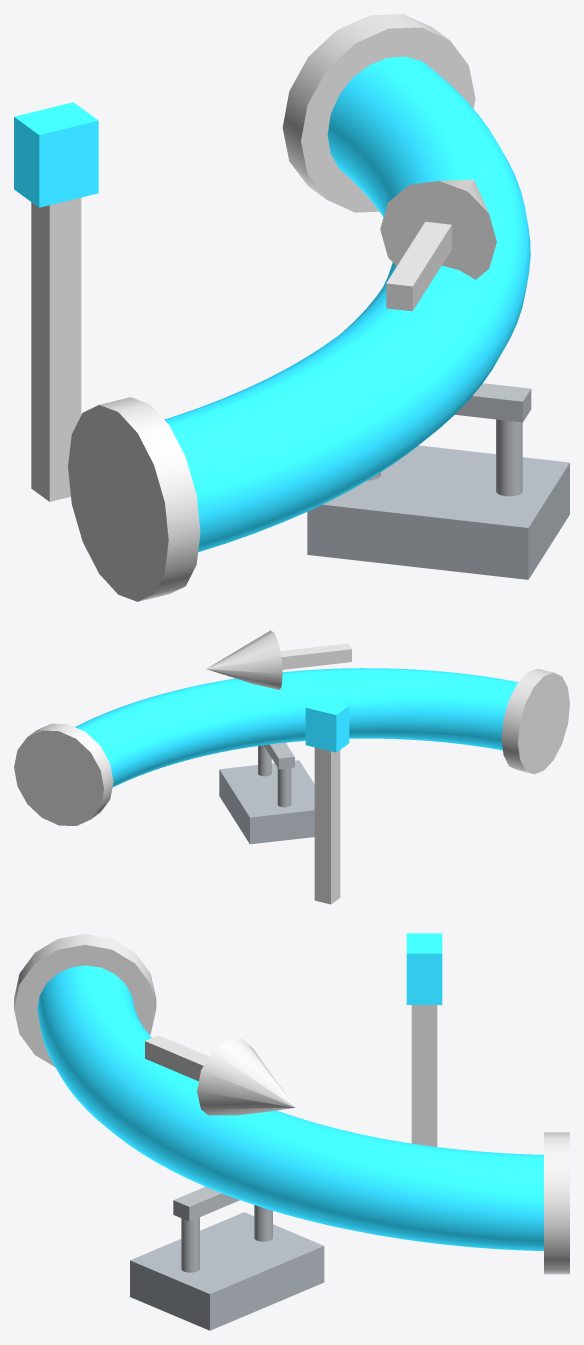
Rendered from Pipeline-turn-left.glb.
The picture shows the model from 3 angles, top to bottom: view 1: azimuth 30°, elevation 25°; view 2: azimuth 150°, elevation 25°; view 3: azimuth 270°, elevation 25°; orthographic projection. The views are drawn at different scales.
Parts seen in each view (by area): view 1: pipe_bend, flange (×2), footing, marker_post, marker_cap, flow_arrow, shaft, crossbar, support_post; view 2: pipe_bend, flange (×2), footing, marker_post, flow_arrow, marker_cap, shaft, support_post (×2), crossbar; view 3: pipe_bend, footing, flange (×2), flow_arrow, marker_post, marker_cap, shaft, support_post (×2), crossbar.
Boxes of the visible parts, box(x1,y1,x2,y2) form: pipe_bend: box(164, 56, 530, 552); flange (×2): box(68, 14, 475, 601); footing: box(307, 445, 569, 579); marker_post: box(31, 197, 81, 501); marker_cap: box(14, 102, 98, 207); flow_arrow: box(380, 179, 496, 279); shaft: box(386, 221, 451, 311); crossbar: box(455, 383, 531, 422); support_post: box(496, 419, 522, 496); pipe_bend: box(75, 668, 518, 787); flange (×2): box(14, 668, 569, 825); footing: box(219, 760, 314, 844); marker_post: box(314, 747, 340, 904); flow_arrow: box(206, 630, 282, 689); marker_cap: box(305, 698, 349, 752); shaft: box(280, 643, 351, 669); support_post (×2): box(258, 745, 291, 807); crossbar: box(264, 742, 294, 769); pipe_bend: box(37, 965, 543, 1250); footing: box(130, 1212, 324, 1330); flange (×2): box(14, 934, 569, 1274); flow_arrow: box(197, 1039, 295, 1115); marker_post: box(411, 1005, 437, 1146); marker_cap: box(406, 933, 442, 1004); shaft: box(145, 1035, 208, 1081); support_post (×2): box(181, 1205, 272, 1272); crossbar: box(173, 1186, 239, 1221).
Bounding box in the file's own units: 3.44 × 1.8 × 3.44.
